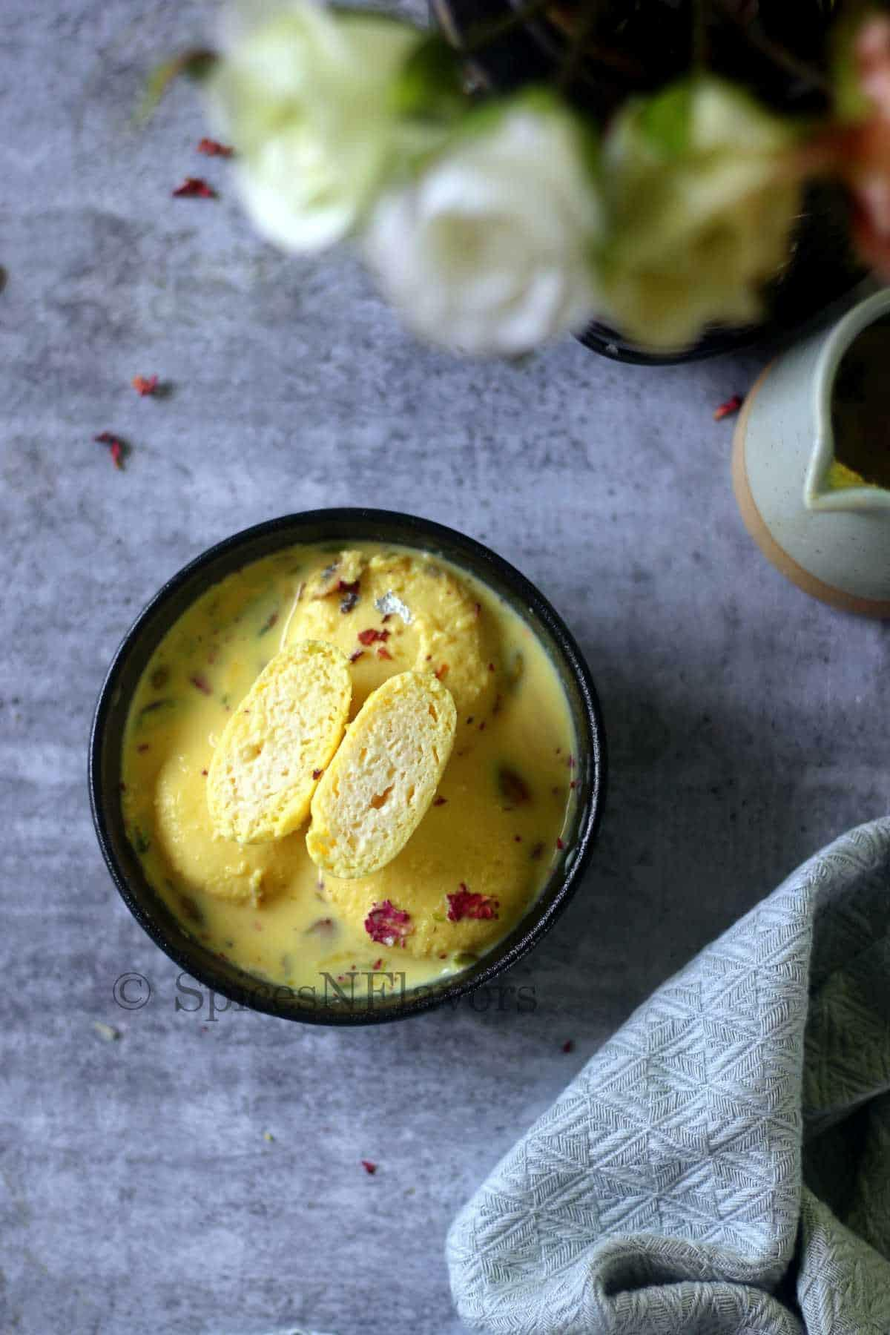RasMalai: (120, 547, 577, 995)
